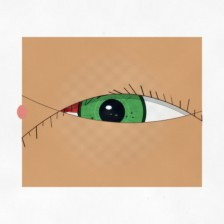hemorrhage_spot: (40, 72, 121, 136)
